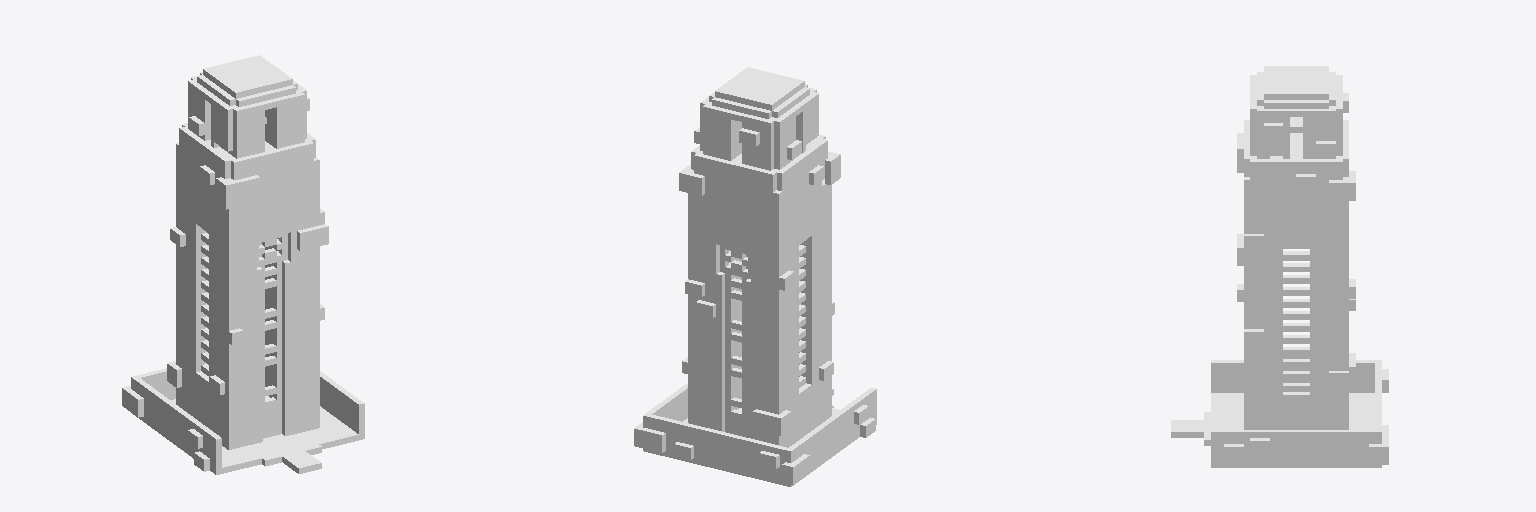
The model's file is SmallBuilding04.obj.
3 renders of one model, left to right at view 1: azimuth 30°, elevation 25°; view 2: azimuth 150°, elevation 25°; view 3: azimuth 270°, elevation 25°, orthographic.
Parts seen in each view (by area): view 1: object 1; view 2: object 1; view 3: object 1.
Boxes of the visible parts, x1,y1,x2,y2 form: object 1: [122, 55, 364, 474]; object 1: [634, 67, 876, 486]; object 1: [1171, 66, 1388, 467].
Bounding box in the file's own units: 2.8 × 5.9 × 3.3.